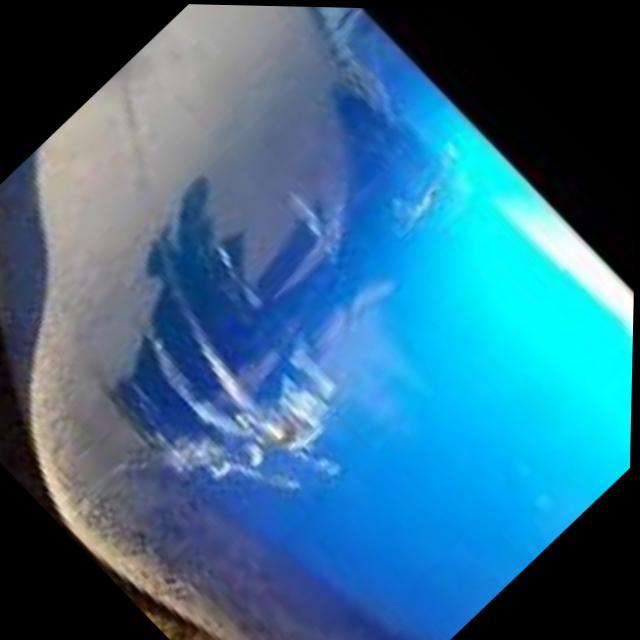rub: (126, 218, 354, 495)
